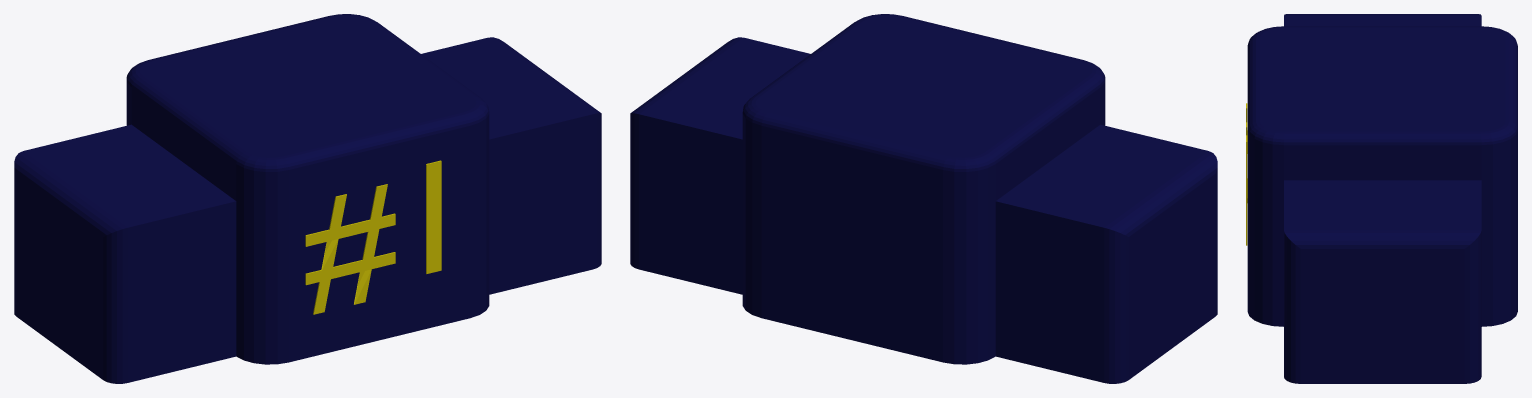
File: Podium.fbx
3 renders of one model, left to right at view 1: azimuth 30°, elevation 25°; view 2: azimuth 150°, elevation 25°; view 3: azimuth 270°, elevation 25°, orthographic. The views are drawn at different scales.
Visible parts, largest first — view 1: Cube, Text; view 2: Cube; view 3: Cube, Text.
Boxes of the visible parts, bbox=[...] form: Cube: bbox=[14, 14, 601, 383]; Text: bbox=[305, 160, 441, 314]; Cube: bbox=[630, 14, 1217, 383]; Cube: bbox=[1247, 14, 1517, 383]; Text: bbox=[1246, 103, 1247, 245].
Size of the model in its own units: 400 by 155 by 201.
